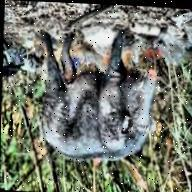boar: (20, 9, 163, 180)
